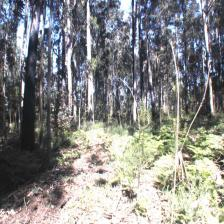trunktrack_idkeyframe: (21, 74, 36, 152), (148, 73, 157, 117), (46, 72, 51, 150), (208, 82, 215, 113)
